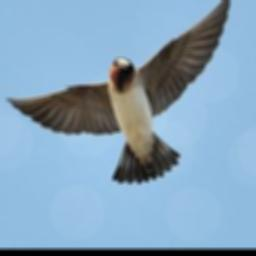Swallow: (7, 0, 235, 184)
